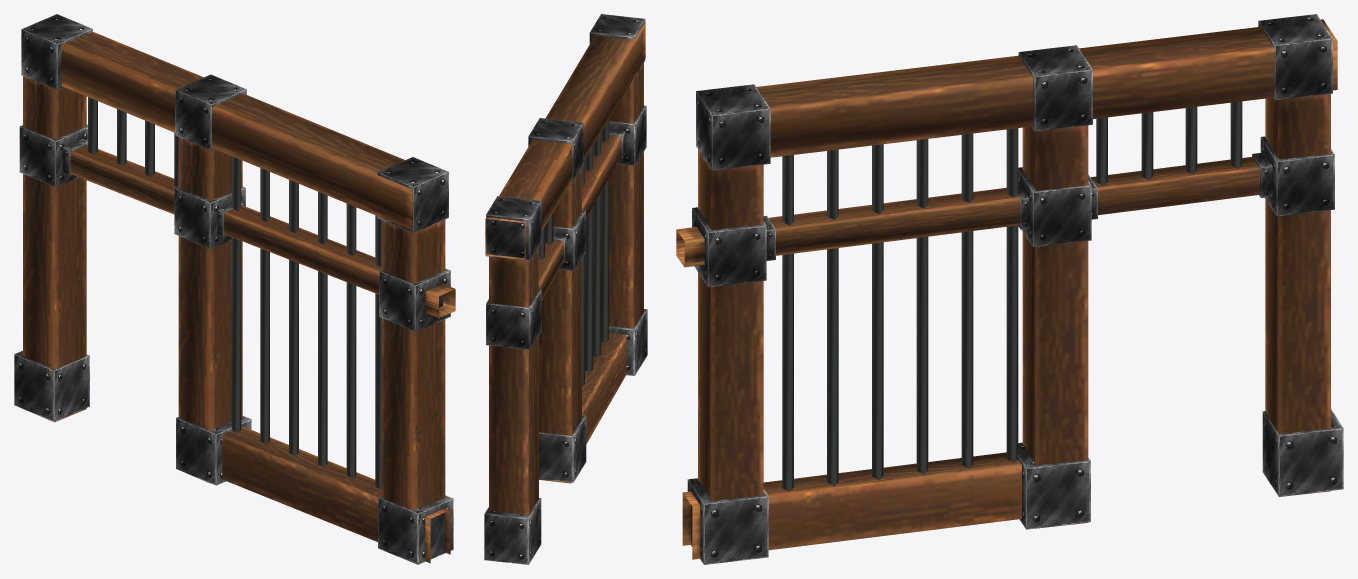
The model's file is SWORDLIGHT20_JAILCELLBARS07.fbx.
3 renders of one model, left to right at view 1: azimuth 30°, elevation 25°; view 2: azimuth 150°, elevation 25°; view 3: azimuth 270°, elevation 25°, orthographic. The views are drawn at different scales.
Visible parts, largest first — view 1: SWORDLIGHT20_JAILCELLBARS07; view 2: SWORDLIGHT20_JAILCELLBARS07; view 3: SWORDLIGHT20_JAILCELLBARS07.
Boxes of the visible parts, bbox=[...] form: SWORDLIGHT20_JAILCELLBARS07: bbox=[14, 14, 455, 564]; SWORDLIGHT20_JAILCELLBARS07: bbox=[484, 14, 647, 564]; SWORDLIGHT20_JAILCELLBARS07: bbox=[676, 14, 1343, 564].
Bounding box in the file's own units: 18291 × 37254 × 49617.
Materials: 3 (3 with a texture image).
